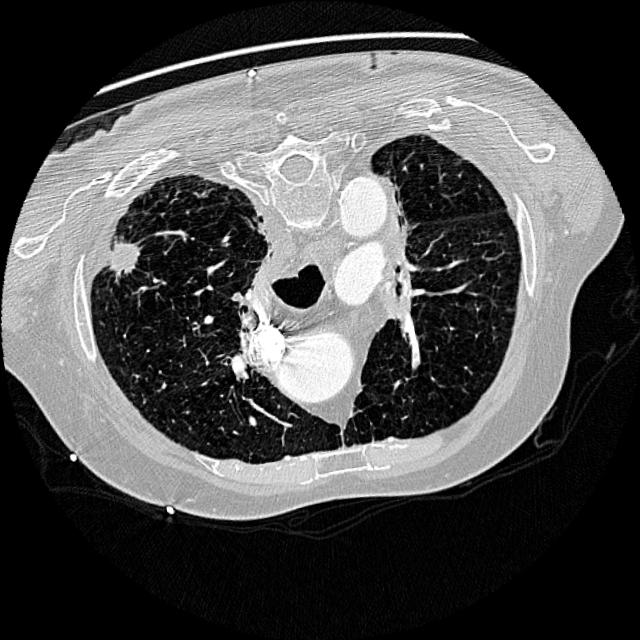nodule: (81, 219, 160, 298)
